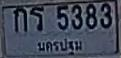3: (100, 2, 111, 28), (71, 4, 82, 28)
5: (56, 4, 67, 29)
8: (85, 3, 96, 28)
A01: (12, 6, 26, 32)
A35: (30, 6, 44, 30)
NPT: (35, 36, 84, 56)
